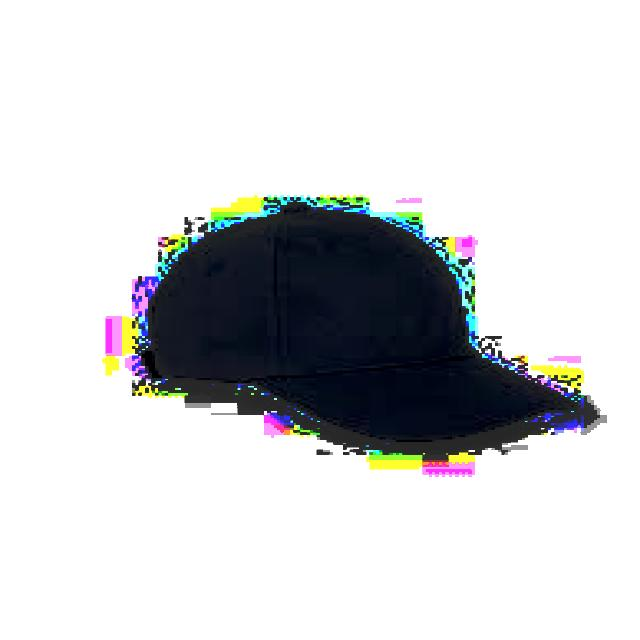TOPI: (76, 181, 616, 494)
